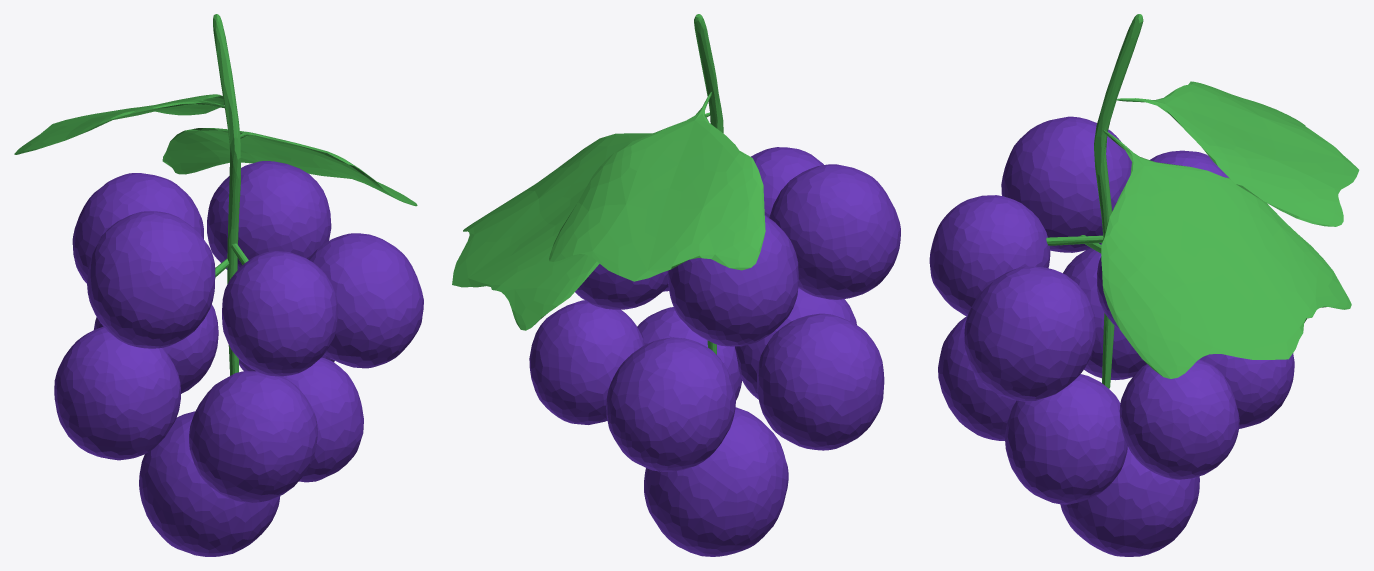
File: 532_grape.fbx
3 views of the same model, side by side, from view 1: azimuth 30°, elevation 25°; view 2: azimuth 150°, elevation 25°; view 3: azimuth 270°, elevation 25° (orthographic). The views are drawn at different scales.
Visible parts, largest first — view 1: Icosphere.015_Icosphere.018; view 2: Icosphere.015_Icosphere.018; view 3: Icosphere.015_Icosphere.018.
Boxes of the visible parts, <box> form: Icosphere.015_Icosphere.018: <box>14,14,423,556</box>; Icosphere.015_Icosphere.018: <box>452,14,900,556</box>; Icosphere.015_Icosphere.018: <box>929,14,1359,556</box>.
Size of the model in its own units: 650 by 869 by 625.
